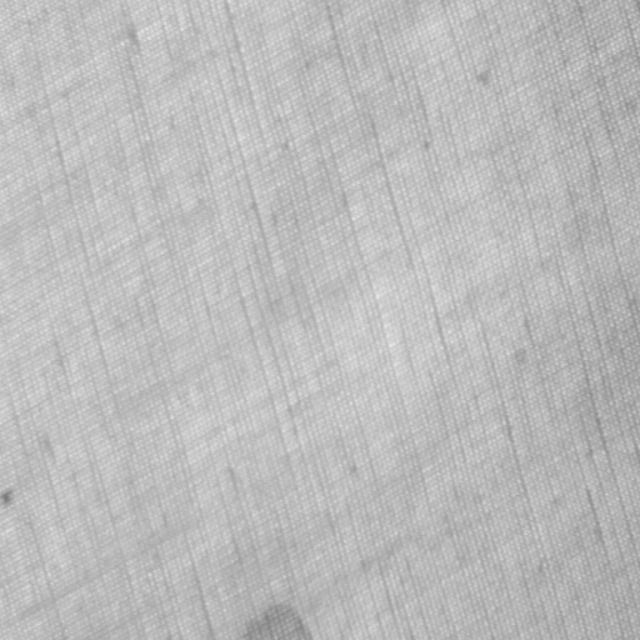oil spot: (241, 602, 315, 638)
